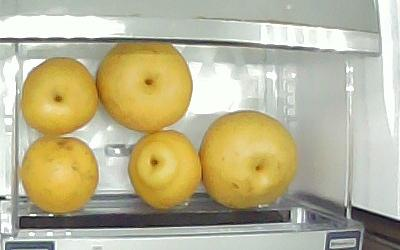pear: (200, 110, 298, 212), (94, 41, 194, 136), (22, 57, 98, 136), (22, 136, 97, 214), (128, 130, 201, 210)
